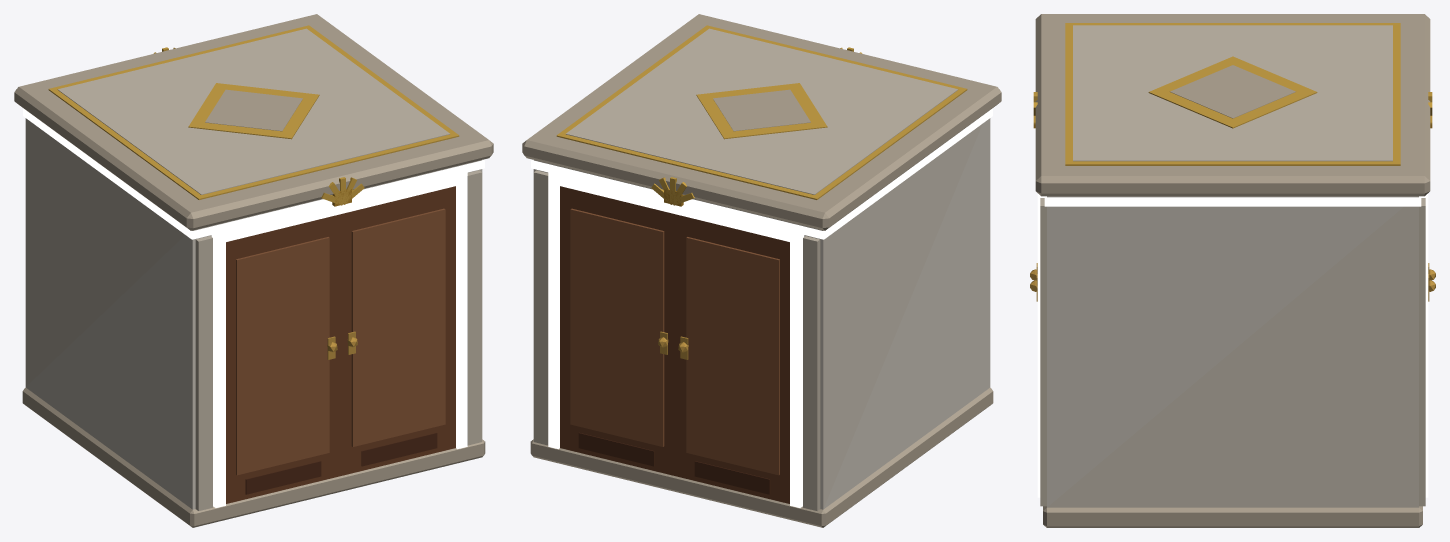
The model's file is kit-paris-door.glb.
3 views of the same model, side by side, from view 1: azimuth 30°, elevation 25°; view 2: azimuth 150°, elevation 25°; view 3: azimuth 270°, elevation 25° (orthographic). The views are drawn at different scales.
Visible parts, largest first — view 1: kit-paris-door; view 2: kit-paris-door; view 3: kit-paris-door.
Part boxes in pixels (x1,y1,x2,y2): kit-paris-door: [14, 14, 493, 527]; kit-paris-door: [522, 14, 1001, 527]; kit-paris-door: [1030, 14, 1435, 527].
Bounding box in the file's own units: 2.12 × 2.12 × 2.18.
